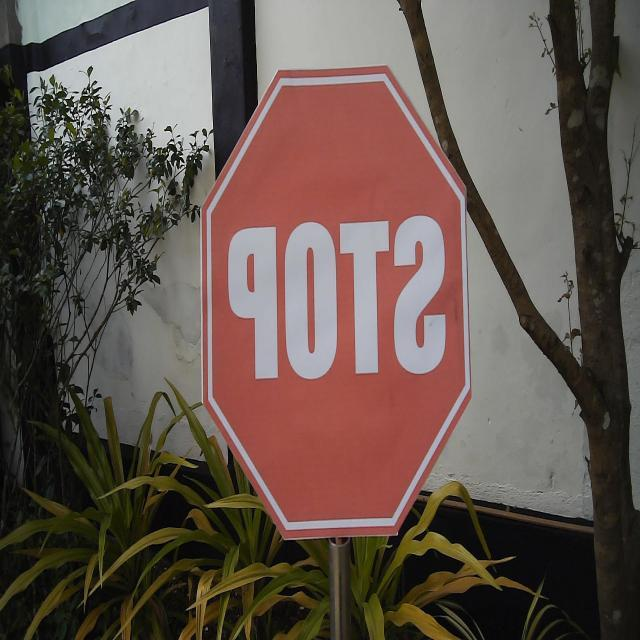stop: (198, 62, 474, 546)
